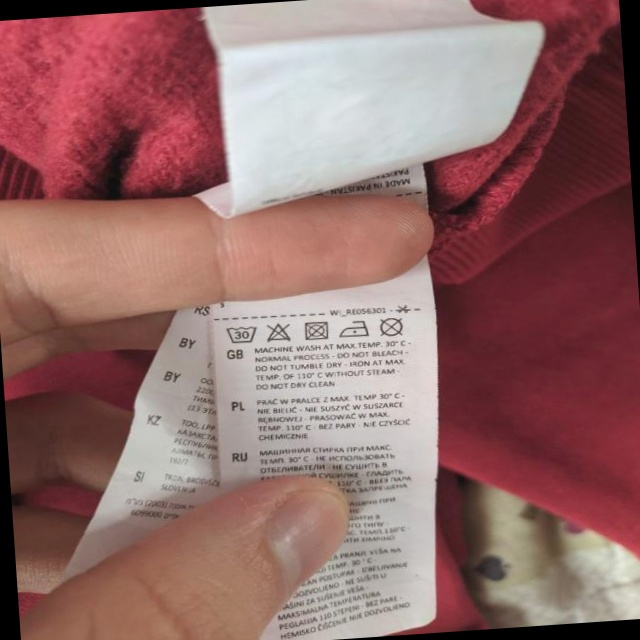30C: (224, 317, 260, 346)
DN_bleach: (265, 318, 294, 344)
DN_dry_clean: (378, 314, 407, 339)
DN_tumble_dry: (302, 317, 332, 341)
iron_low: (338, 316, 371, 341)
